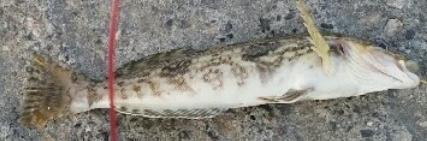fish: (21, 0, 426, 127)
